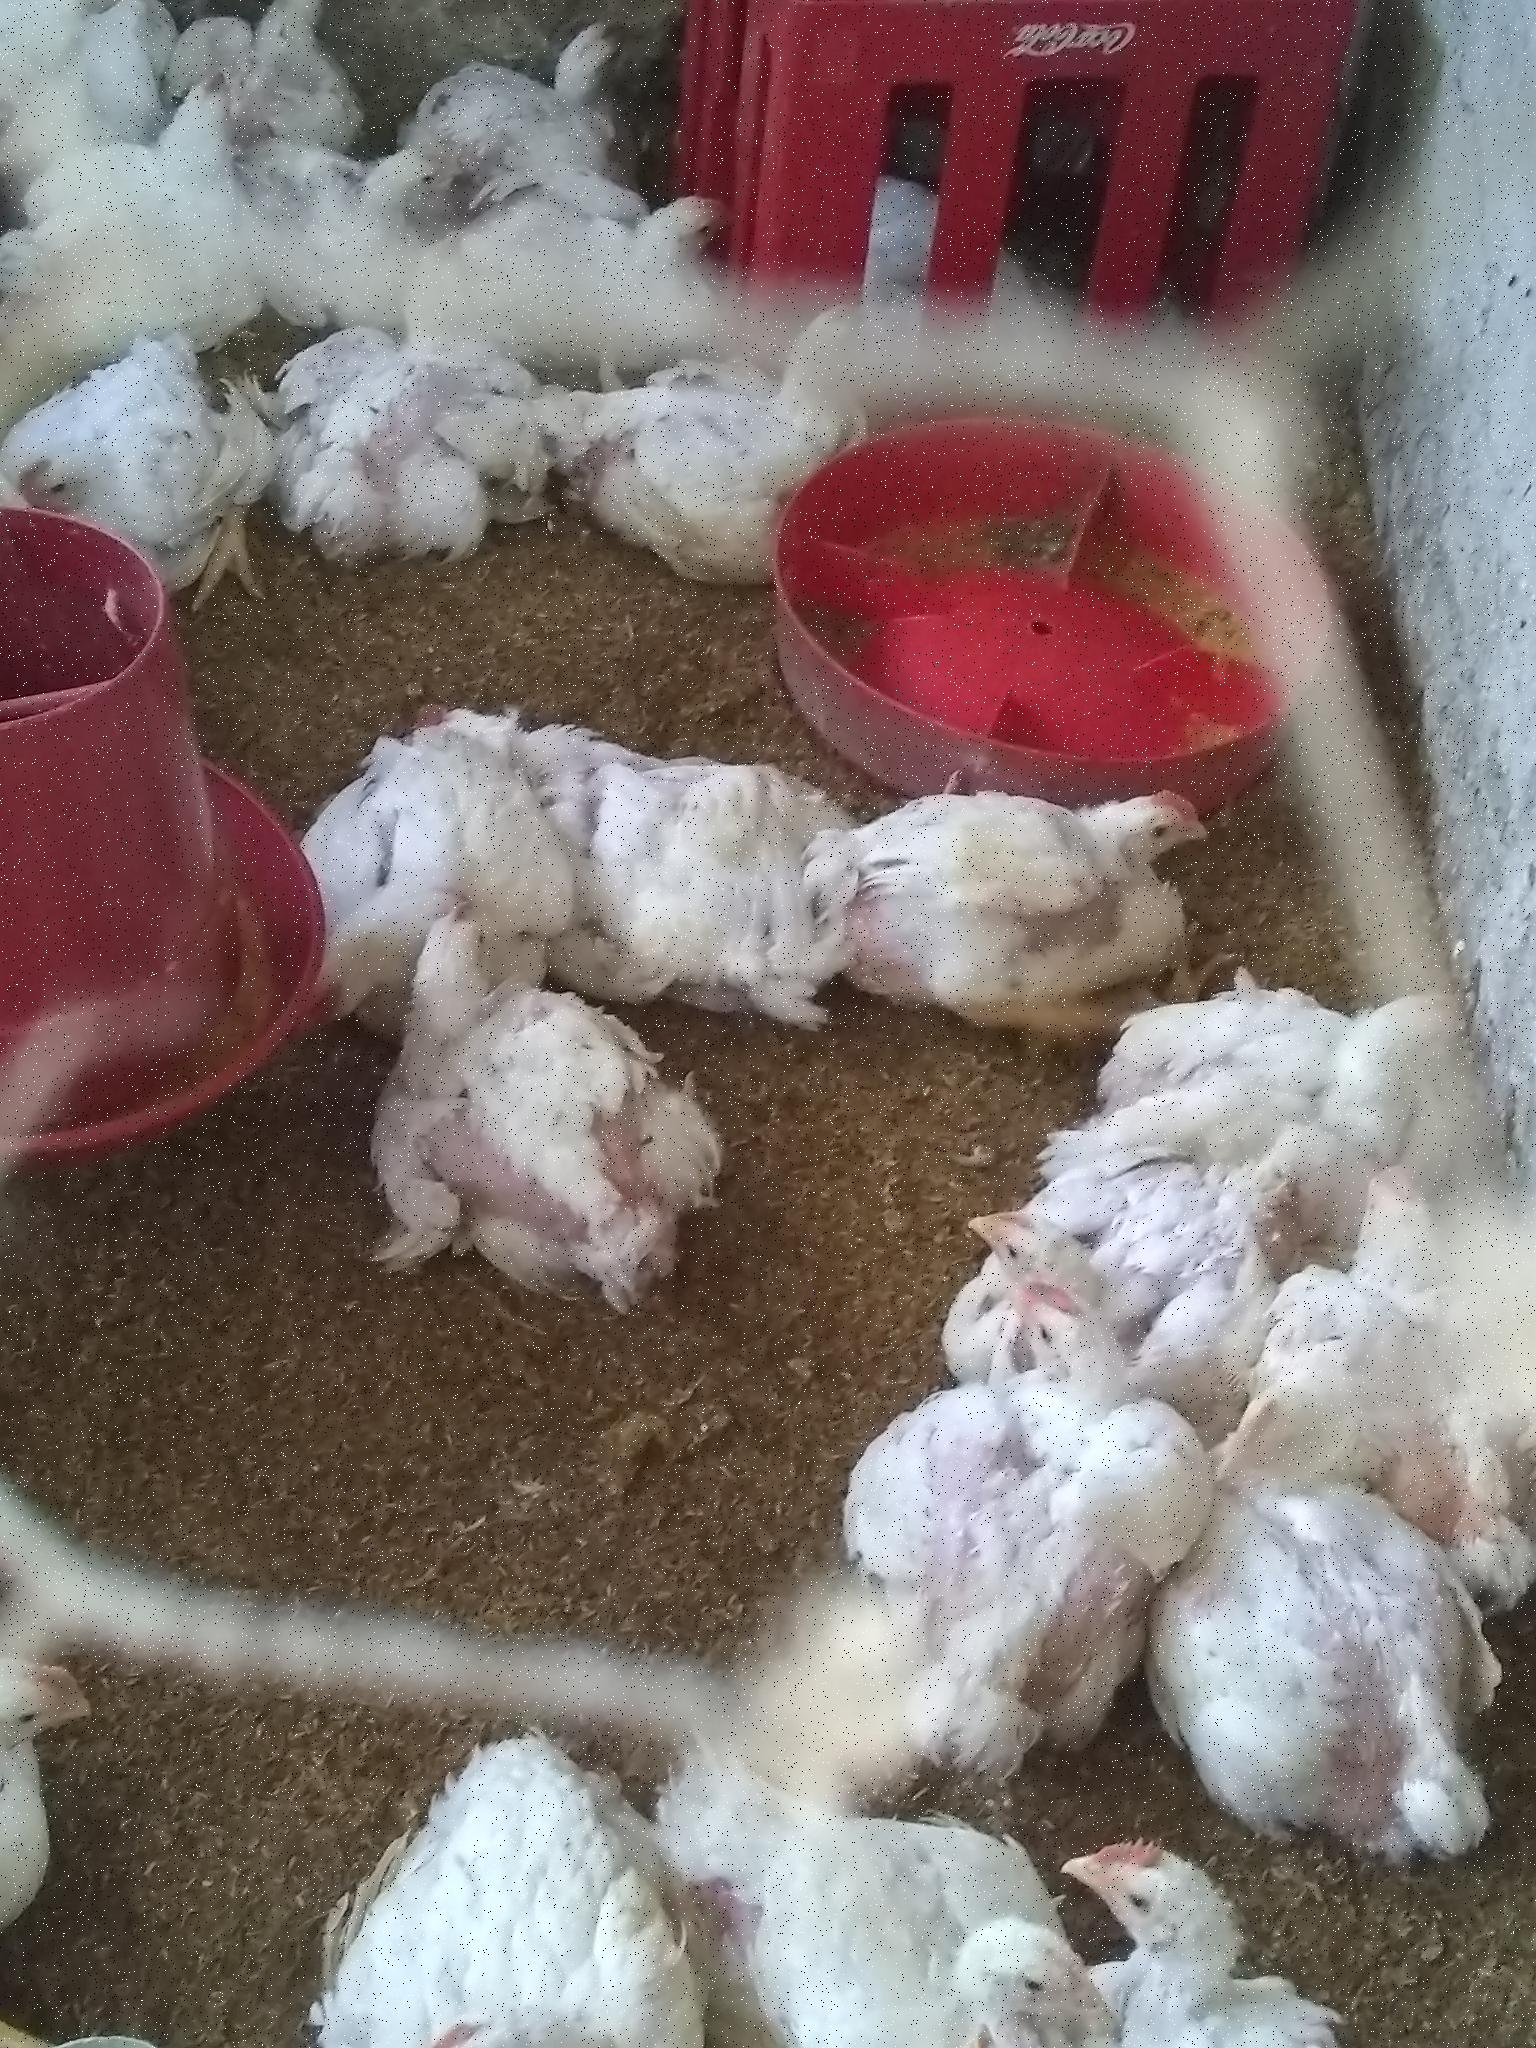Pollos: (1173, 1496, 1533, 1879), (365, 908, 682, 1298), (269, 1730, 657, 2048), (866, 1317, 1168, 1708), (570, 289, 937, 589), (850, 760, 1231, 1016), (695, 1798, 1083, 2048), (549, 697, 841, 998), (13, 63, 266, 361), (954, 1137, 1267, 1371), (1213, 1263, 1523, 1482), (1100, 1775, 1342, 2045), (244, 343, 549, 556), (302, 697, 571, 930), (2, 327, 244, 577), (455, 194, 771, 350), (2, 1637, 145, 1945), (263, 148, 484, 339), (190, 2, 381, 179), (455, 47, 658, 187)
